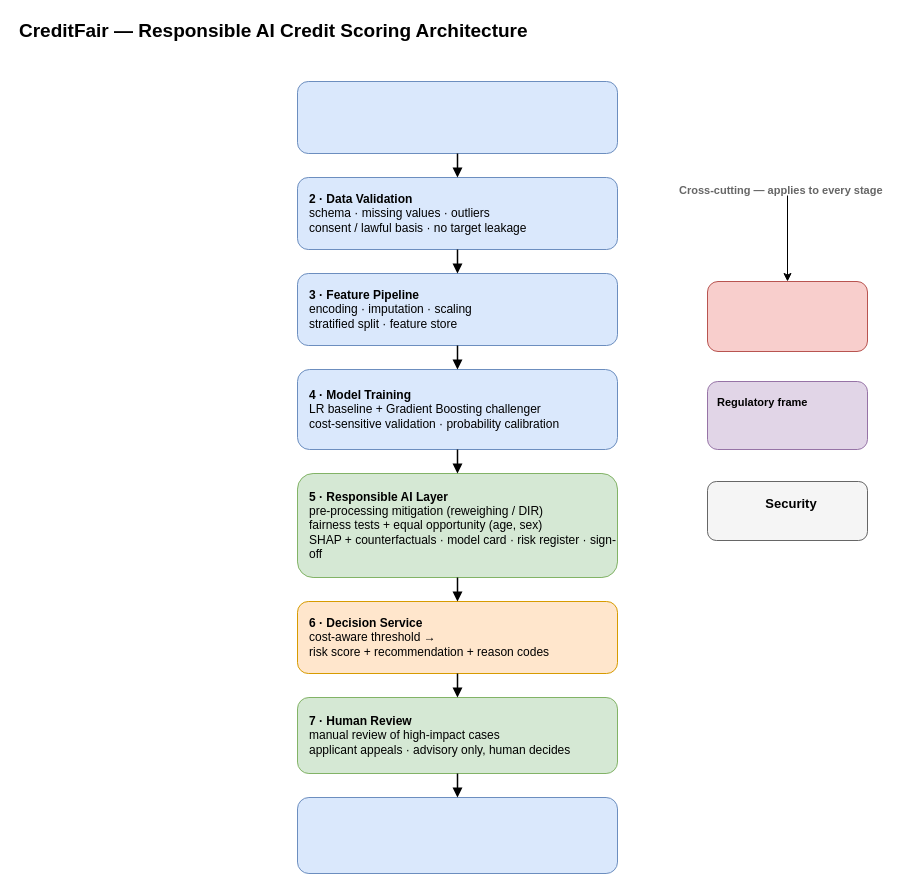
This 914x891 diagram has some shape labels left out. The shapes that lost their labels are listed below. From the top down, each one's centre as x and y in pixels, then its label:
the point at 457,117: 1 · Data Sources German Credit dataset
the point at 787,316: Governance & audit trail
the point at 457,835: 8 · Monitoring & Audit performance · subgroup fairness logs · incident reporting
